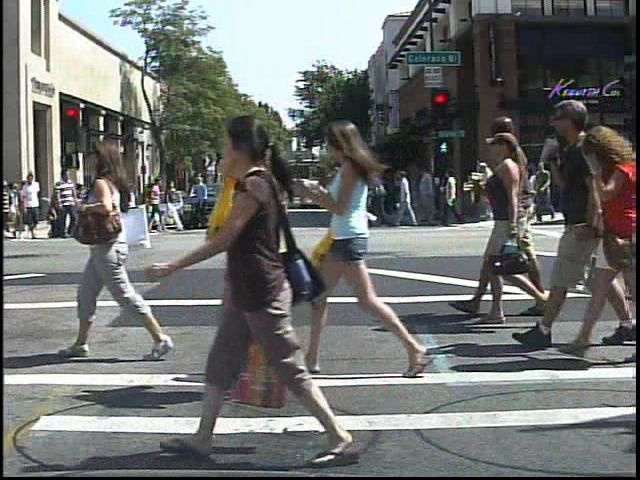person: (175, 105, 362, 471), (203, 116, 339, 398), (306, 109, 440, 383), (68, 126, 175, 367), (527, 80, 606, 352), (582, 113, 637, 358), (98, 161, 132, 241), (51, 164, 81, 242), (18, 169, 43, 242), (478, 157, 495, 224), (99, 178, 119, 221), (163, 175, 182, 195)
